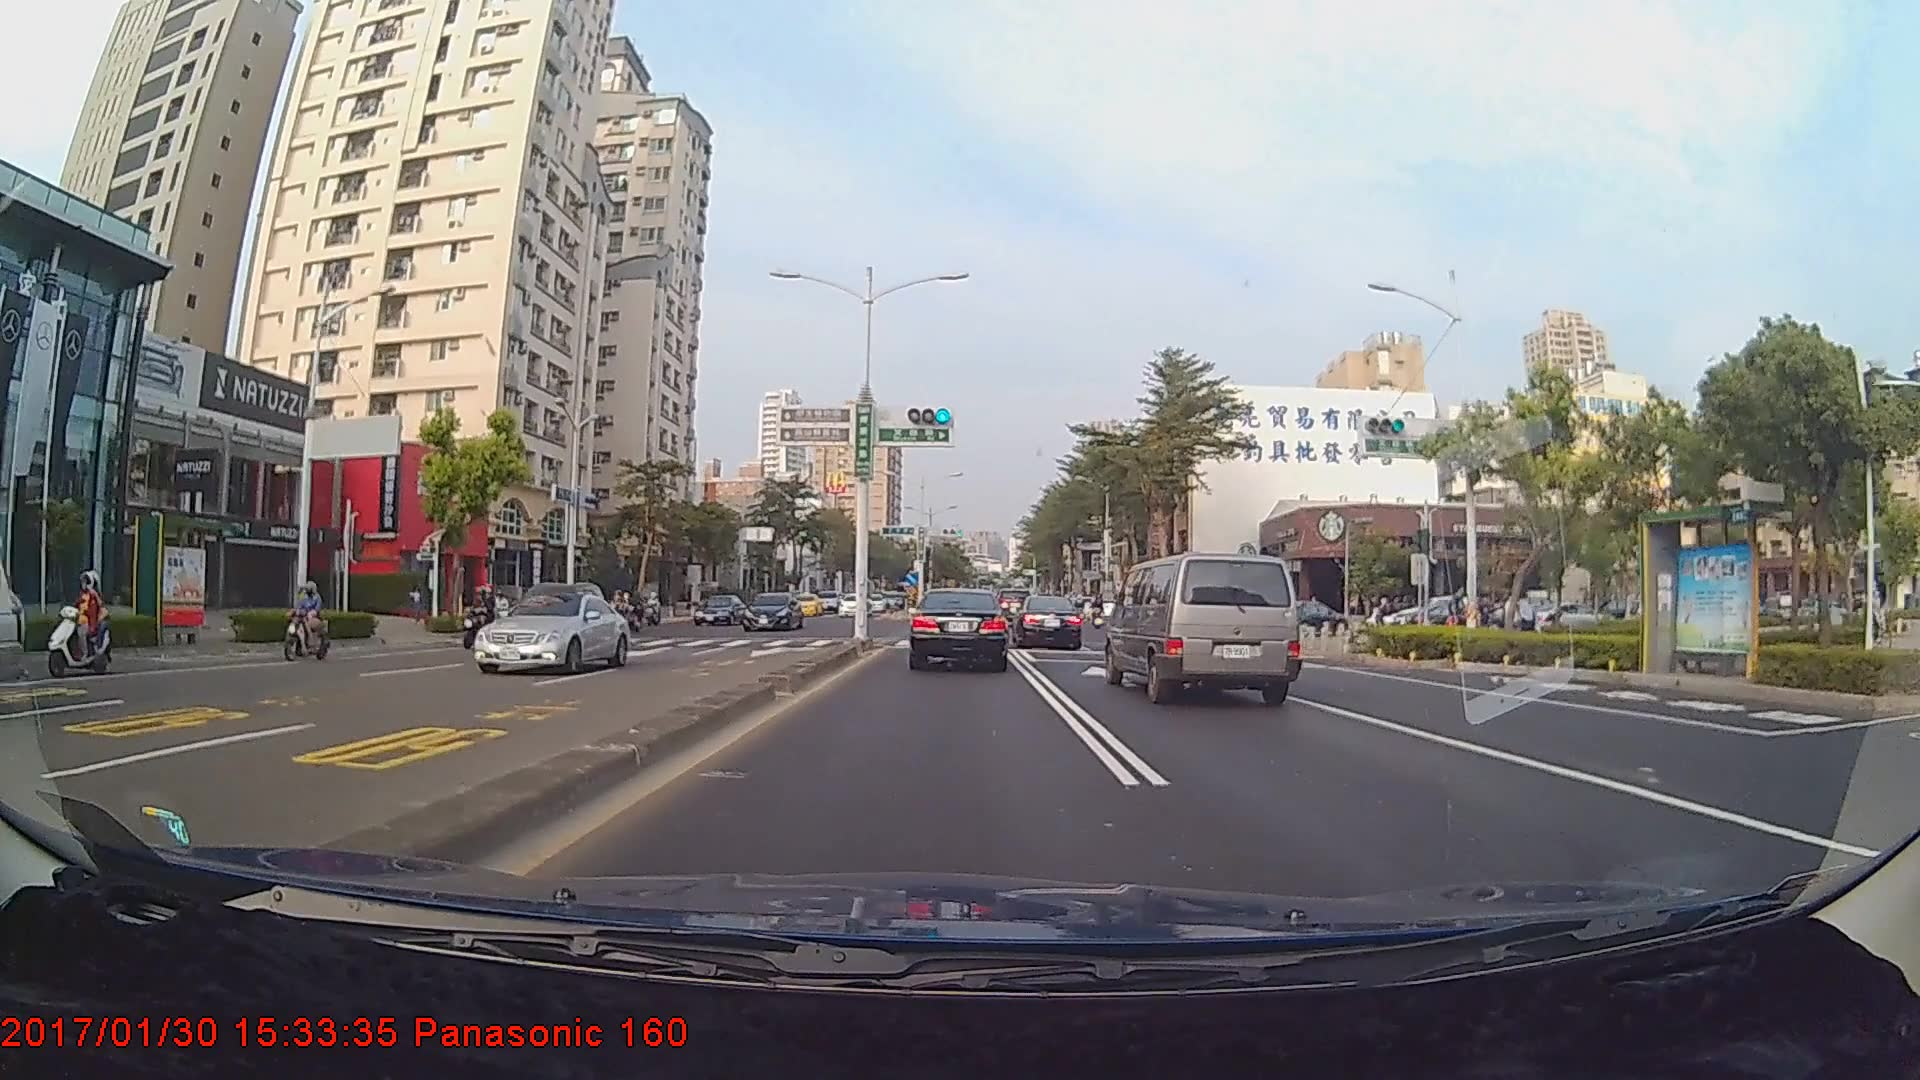pedestrian: (1517, 591, 1538, 650)
rider: (42, 570, 114, 677), (275, 574, 338, 662), (458, 582, 505, 650)
vehicle: (1106, 550, 1306, 704), (470, 588, 631, 675), (910, 585, 1008, 669), (509, 581, 607, 653), (1017, 595, 1083, 648), (740, 591, 803, 634), (693, 593, 746, 624), (837, 592, 873, 614)
